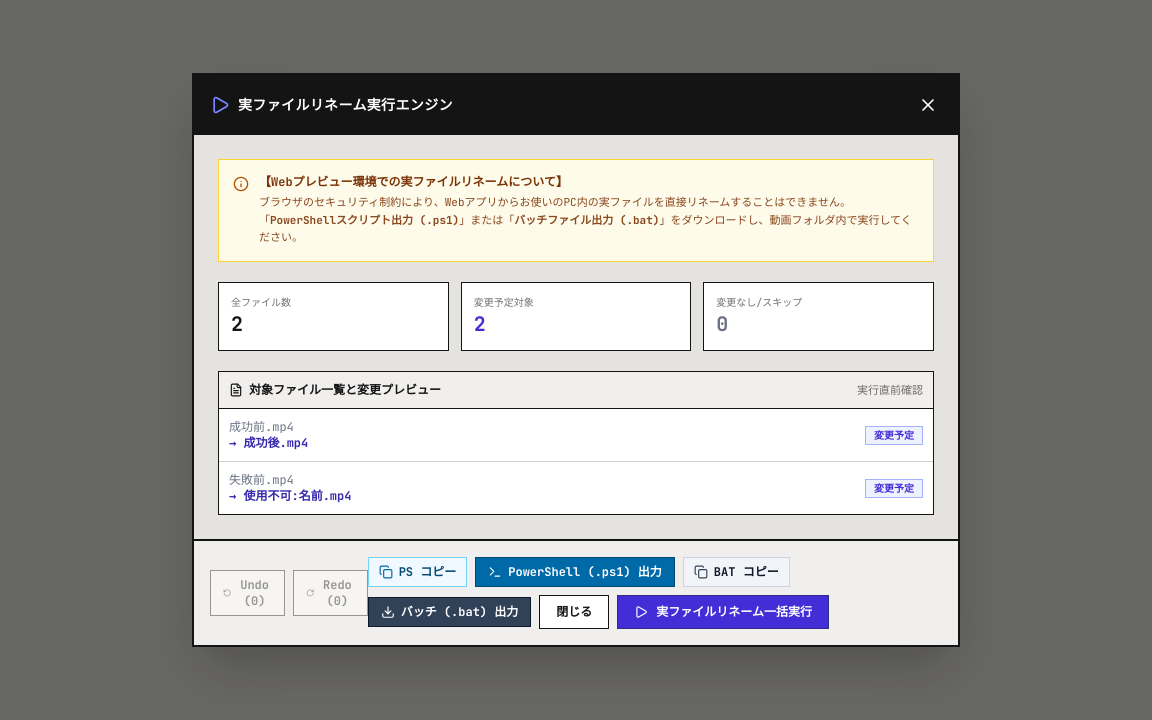
it: RenameExecutionModal Component Suite › Undo後のRedoでは成功分だけを再反映し、履歴件数を更新する
Click the button "実ファイルリネーム一括実行" at (723, 612), box x1=617 y1=595 x2=829 y2=629
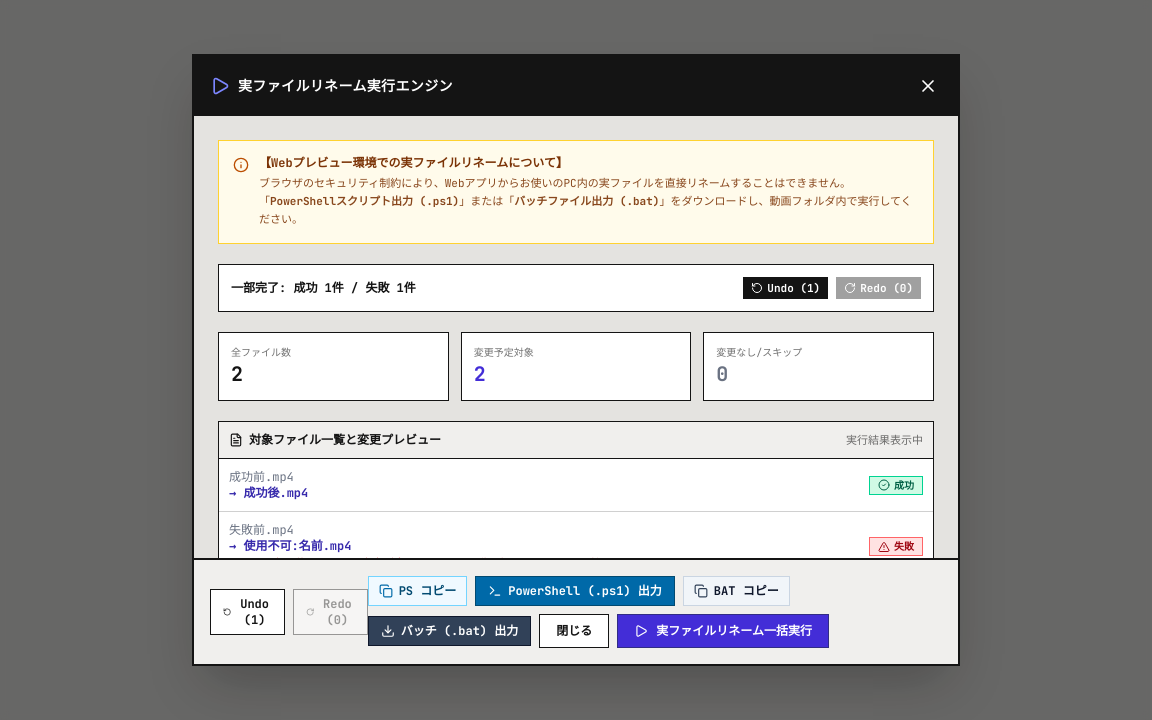
Click the button "Undo (1)" in the row of "一部完了: 成功 1件 / 失敗 1件" at (786, 288), box x1=743 y1=277 x2=828 y2=299
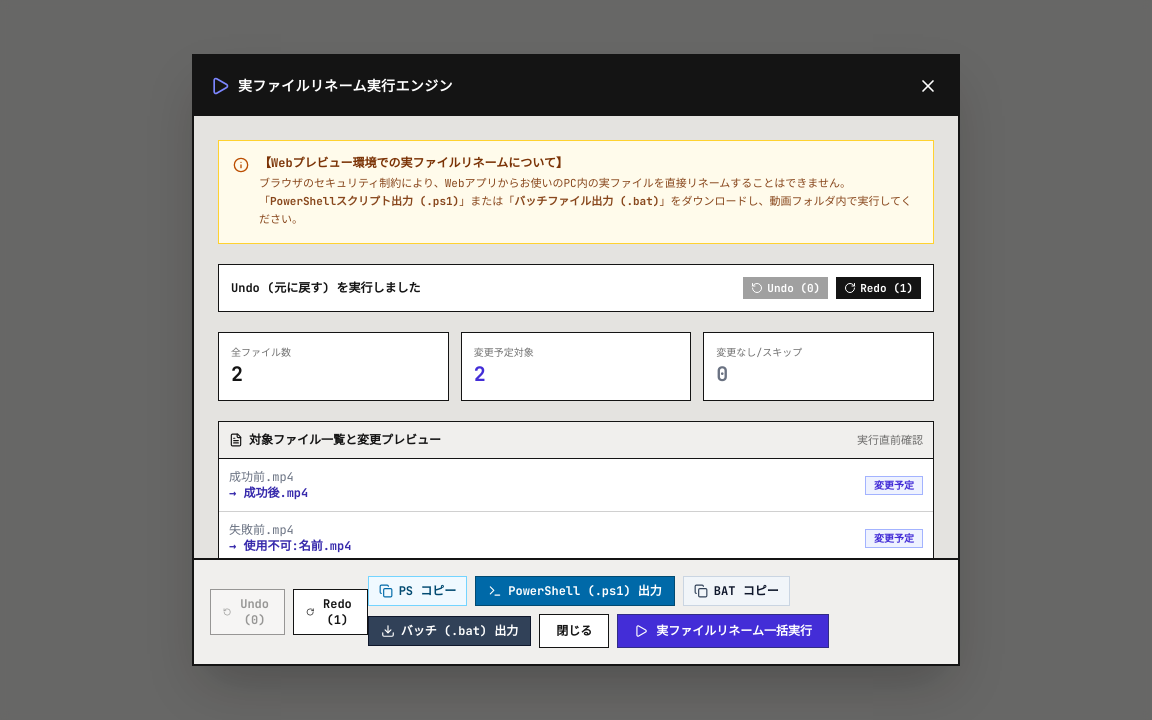
Click the button "Redo (1)" in the row of "Undo (元に戻す) を実行しました" at (879, 288), box x1=836 y1=277 x2=921 y2=299
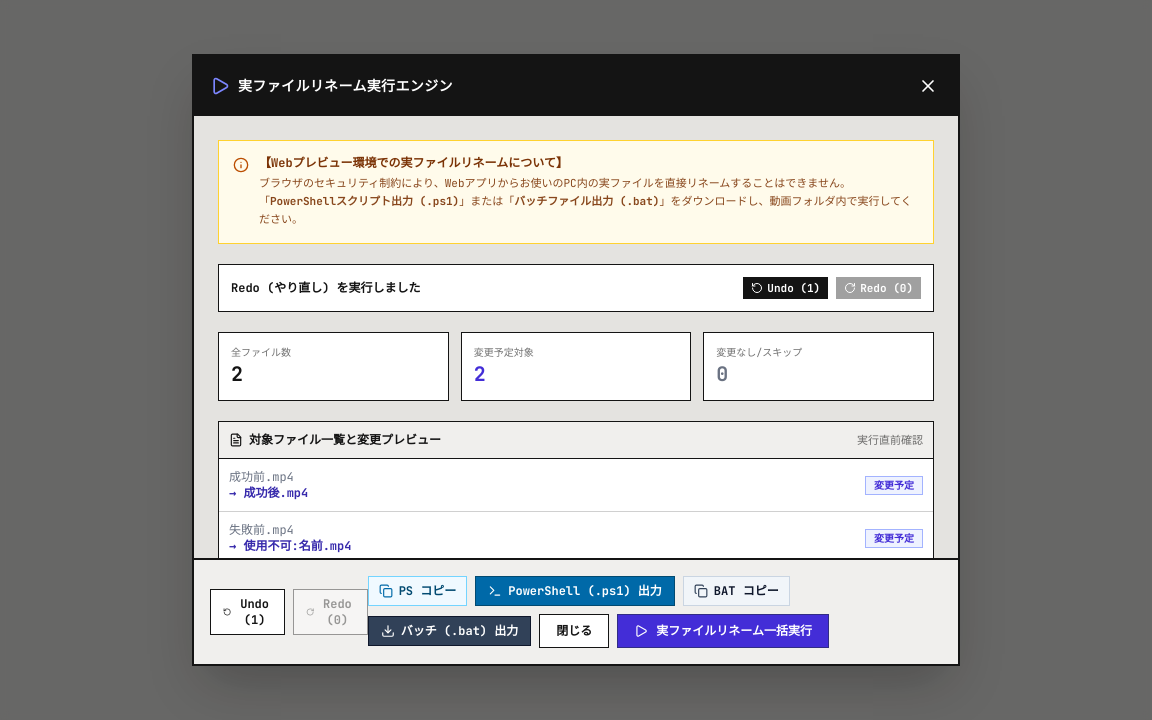
expect the text "Redo (やり直し) を実行しました" is shown: met, box x1=231 y1=280 x2=421 y2=296
